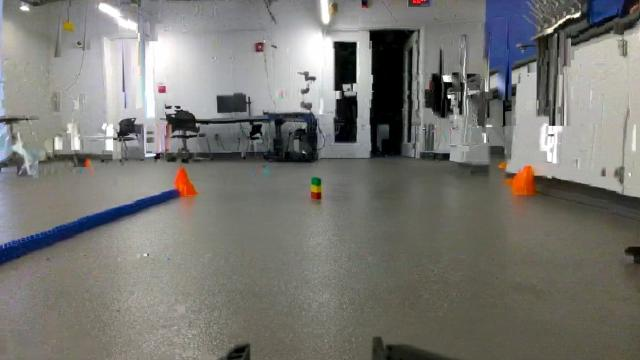lego: (309, 172, 325, 207)
